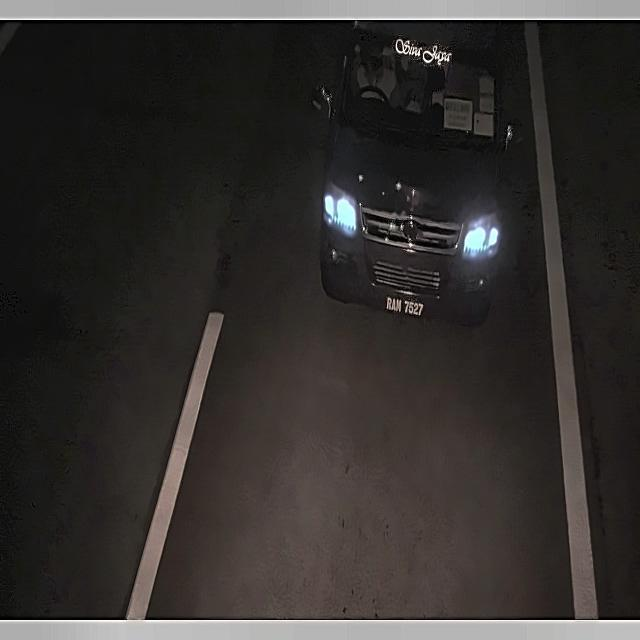car: (382, 288, 427, 326)
